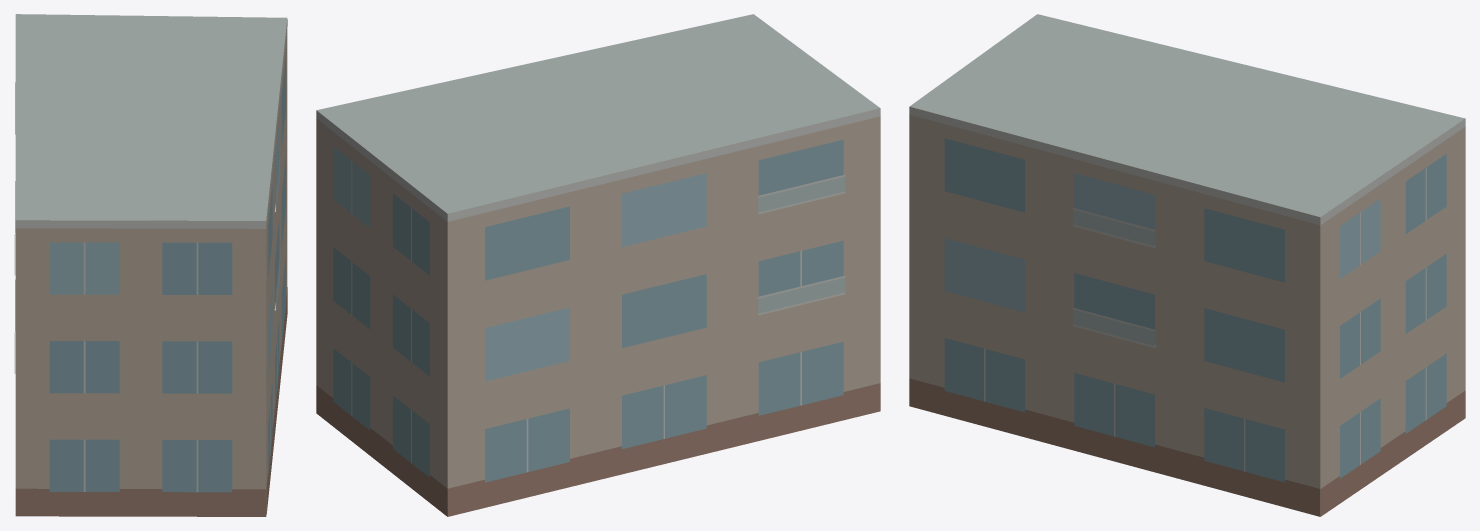
The model's file is survey-upis-33033491.glb.
3 views of the same model, side by side, from view 1: azimuth 30°, elevation 25°; view 2: azimuth 150°, elevation 25°; view 3: azimuth 270°, elevation 25° (orthographic). The views are drawn at different scales.
Visible parts, largest first — view 1: survey-upis-33033491.tmp; view 2: survey-upis-33033491.tmp; view 3: survey-upis-33033491.tmp.
Part boxes in pixels (x1,y1,x2,y2): survey-upis-33033491.tmp: (14, 14, 287, 516); survey-upis-33033491.tmp: (316, 14, 880, 516); survey-upis-33033491.tmp: (909, 14, 1465, 516).
Size of the model in its own units: 13.32 by 9.15 by 15.41.
